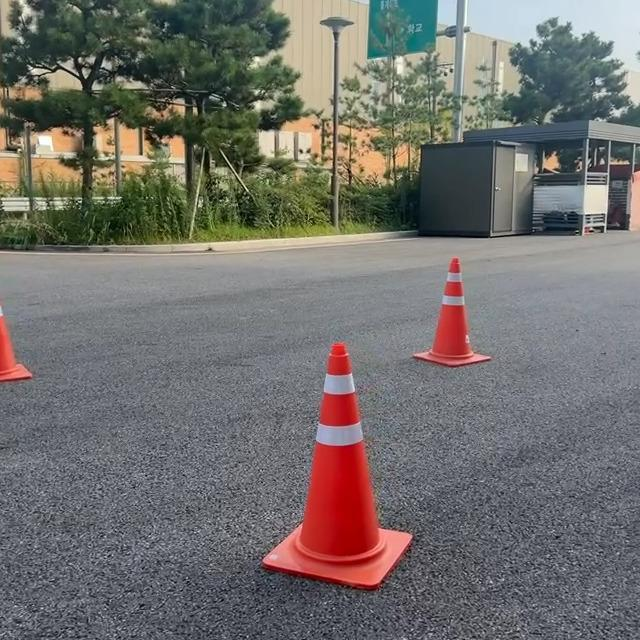fallen_object: (186, 317, 396, 634), (383, 250, 534, 438), (0, 281, 59, 417)
